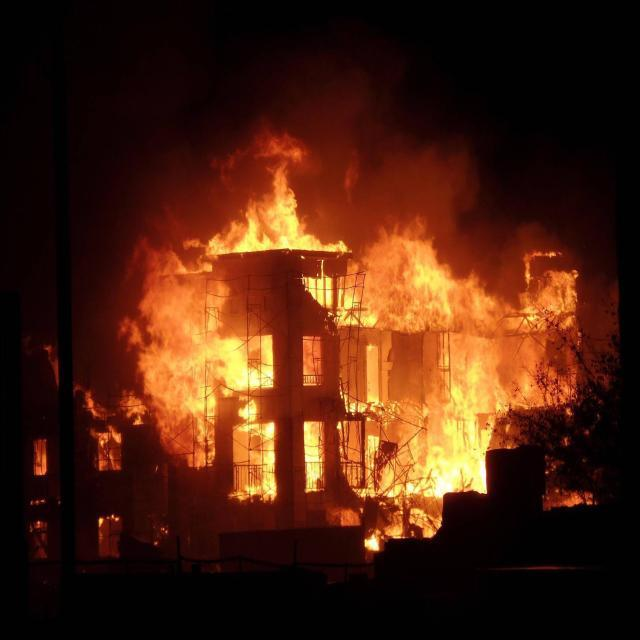Fire: (216, 171, 344, 251), (184, 328, 272, 423), (400, 408, 488, 494), (256, 420, 276, 500), (304, 420, 322, 490)
